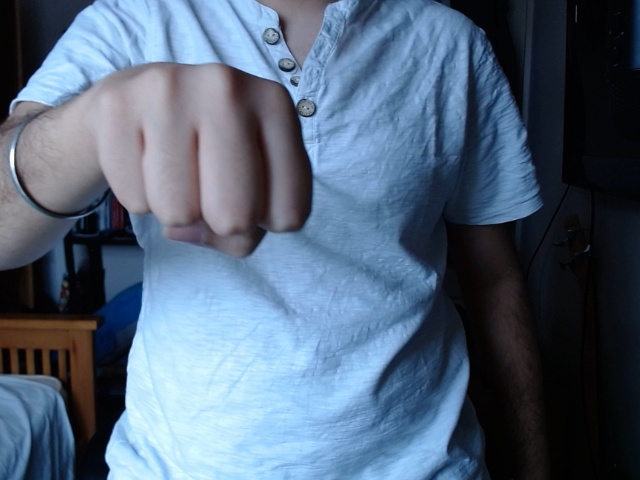Yes: (95, 58, 330, 266)
